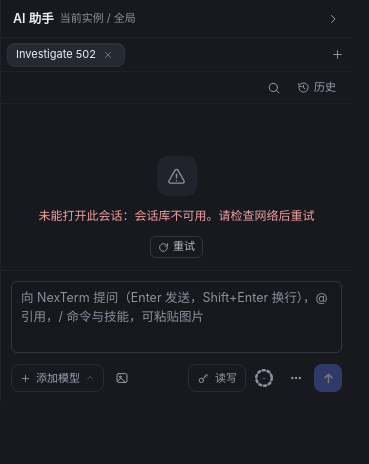
it: AiSidebar session restore › clears the error state after deleting the current conversation following a restore failure
This screenshot has width=369, height=464.
Click the button titled "历史会话" at (316, 88), box [289,76,344,98]
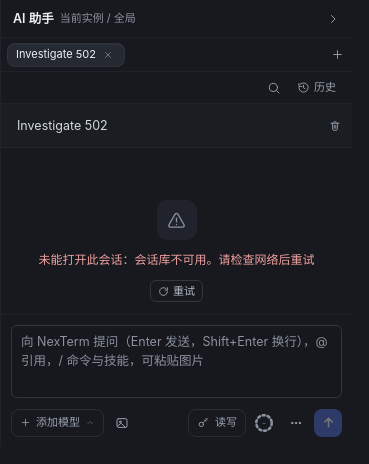
Click the button named "删除会话「Investigate 502」" at (335, 126), box [324,115,346,137]
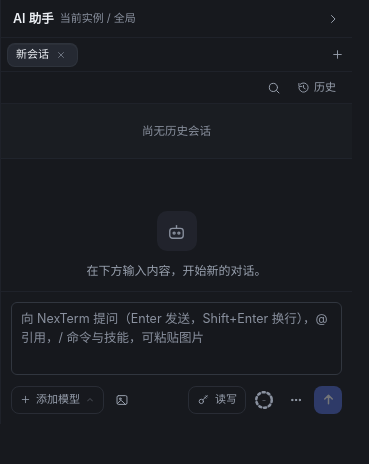
Expected: the text "开始新的对话" is shown, [86,263,266,278]
